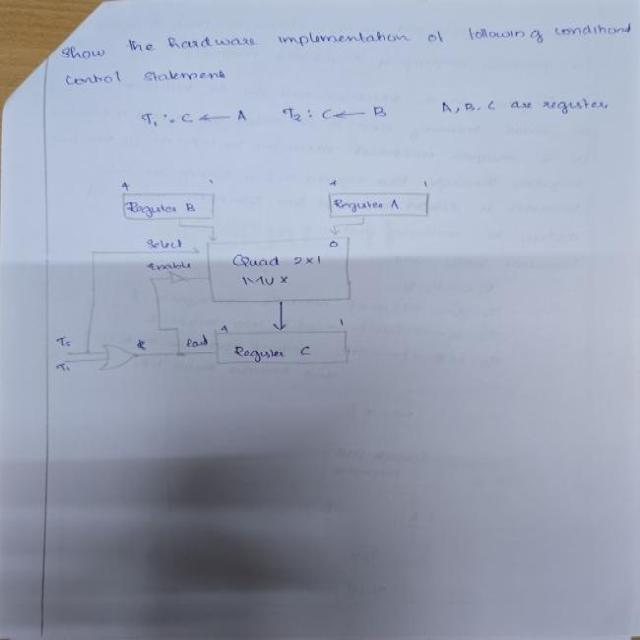Figure Detection - v3 Dataset Version2: (46, 162, 472, 385)
